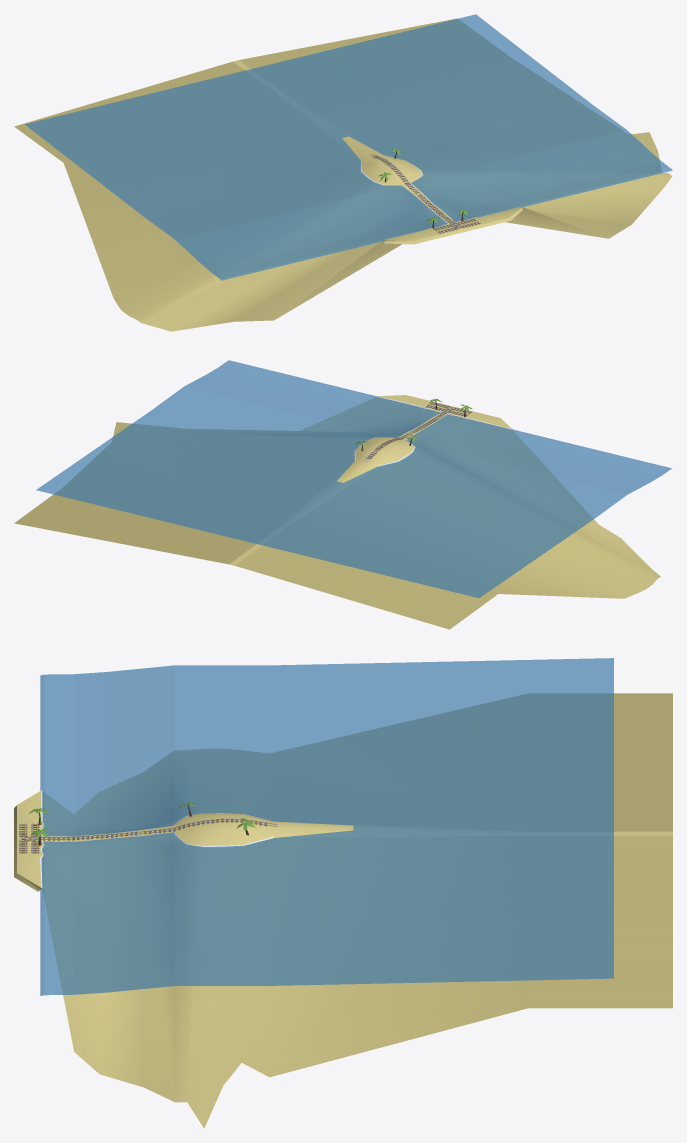
Rendered from road_2.FBX.
3 views of the same model, one above another, from view 1: azimuth 30°, elevation 25°; view 2: azimuth 150°, elevation 25°; view 3: azimuth 270°, elevation 25° (orthographic). The views are drawn at different scales.
Parts seen in each view (by area): view 1: place, sea_1, lu_1; view 2: place, sea_1, lu_1; view 3: place, sea_1, lu_1.
Part boxes in pixels (x1=…): place: x1=14, y1=18, x2=672, y2=331; sea_1: x1=25, y1=14, x2=672, y2=280; lu_1: x1=370, y1=154, x2=480, y2=233; place: x1=14, y1=395, x2=660, y2=629; sea_1: x1=36, y1=360, x2=672, y2=597; lu_1: x1=363, y1=402, x2=472, y2=462; place: x1=14, y1=693, x2=672, y2=1128; sea_1: x1=40, y1=658, x2=613, y2=995; lu_1: x1=20, y1=818, x2=278, y2=853.
Bounding box in the file's own units: 11403 × 1900 × 8351.
